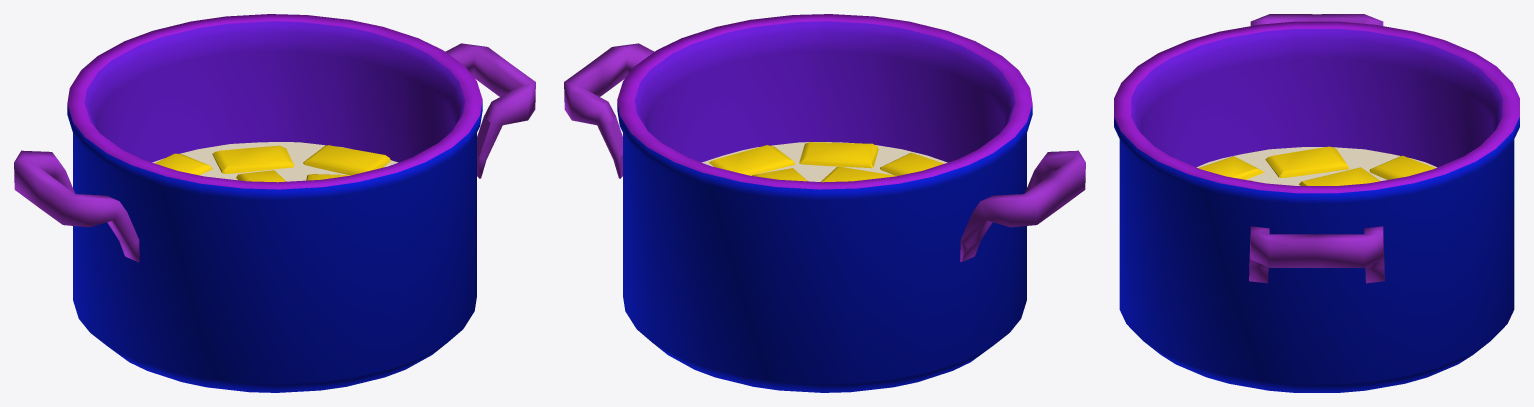
Rendered from kaassoufle_pot_uncooked_model.fbx.
The picture shows the model from 3 angles, left to right: view 1: azimuth 30°, elevation 25°; view 2: azimuth 150°, elevation 25°; view 3: azimuth 270°, elevation 25°; orthographic projection.
Parts seen in each view (by area): view 1: KaassouflePotUncookedPot, KaassouflePotUncookedModel, KaassouflePotUncookedOil; view 2: KaassouflePotUncookedPot, KaassouflePotUncookedModel, KaassouflePotUncookedOil; view 3: KaassouflePotUncookedPot, KaassouflePotUncookedModel, KaassouflePotUncookedOil.
Boxes of the visible parts, x1=… form: KaassouflePotUncookedPot: x1=14, y1=14, x2=535, y2=392; KaassouflePotUncookedModel: x1=155, y1=145, x2=390, y2=182; KaassouflePotUncookedOil: x1=152, y1=142, x2=397, y2=181; KaassouflePotUncookedPot: x1=564, y1=14, x2=1085, y2=392; KaassouflePotUncookedModel: x1=709, y1=142, x2=943, y2=182; KaassouflePotUncookedOil: x1=702, y1=142, x2=947, y2=181; KaassouflePotUncookedPot: x1=1114, y1=14, x2=1519, y2=392; KaassouflePotUncookedModel: x1=1198, y1=146, x2=1435, y2=185; KaassouflePotUncookedOil: x1=1196, y1=147, x2=1437, y2=185.
Size of the model in its own units: 62.94 by 83.38 by 35.99.
